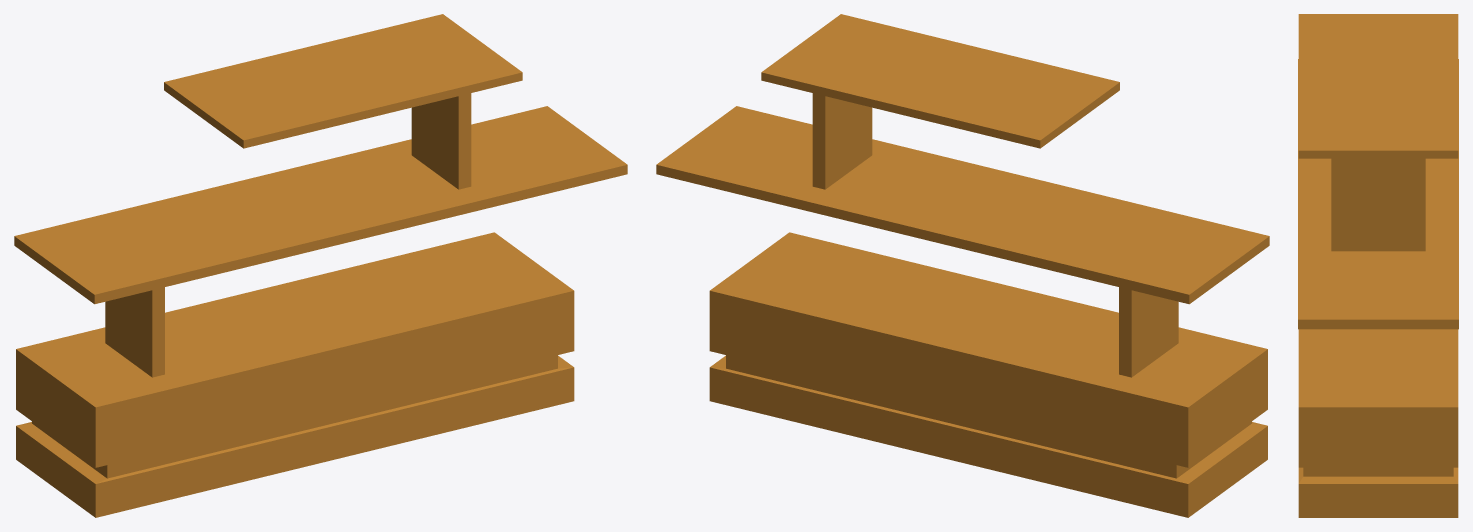
File: Book_Shelf_1.fbx
The picture shows the model from 3 angles, left to right: view 1: azimuth 30°, elevation 25°; view 2: azimuth 150°, elevation 25°; view 3: azimuth 270°, elevation 25°; orthographic projection.
Parts seen in each view (by area): view 1: Shelf; view 2: Shelf; view 3: Shelf.
Part boxes in pixels (box(x1,y1,x2,y2)): Shelf: box(14, 14, 627, 517); Shelf: box(656, 14, 1269, 517); Shelf: box(1298, 14, 1458, 517).
Size of the model in its own units: 401 by 245 by 104.
